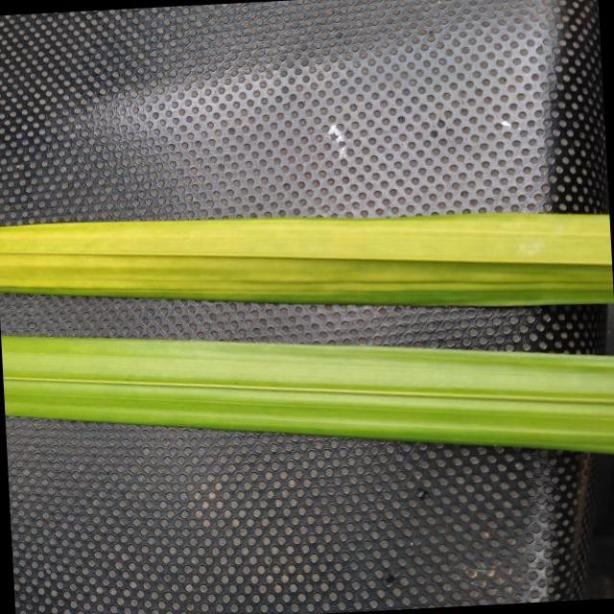nitrogen: (0, 328, 614, 459), (0, 207, 614, 314)
